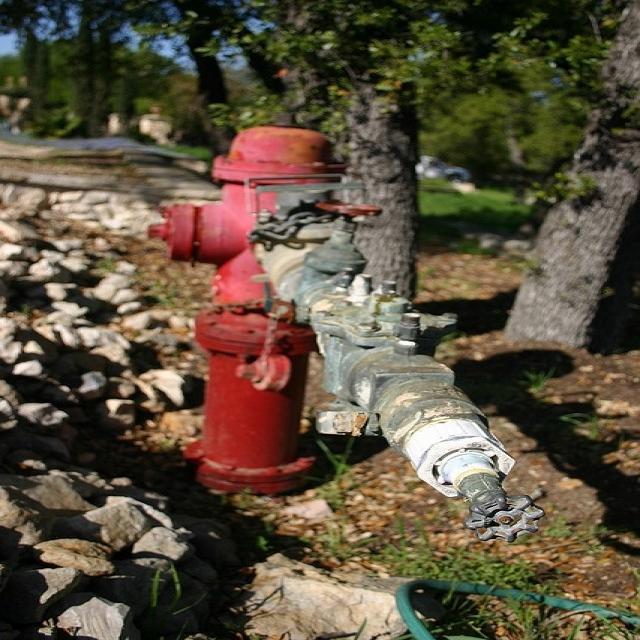fire_hydrant: (103, 66, 574, 597)
